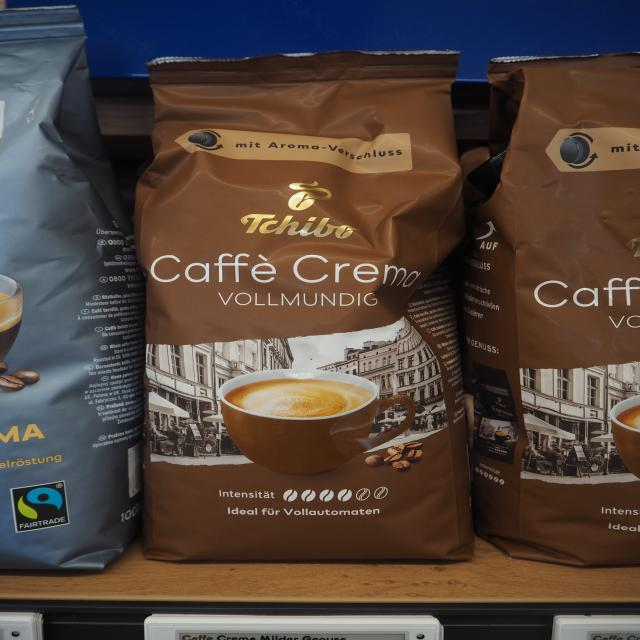CC Vollmundig 36 Pads: (121, 44, 484, 566), (452, 45, 637, 574)
